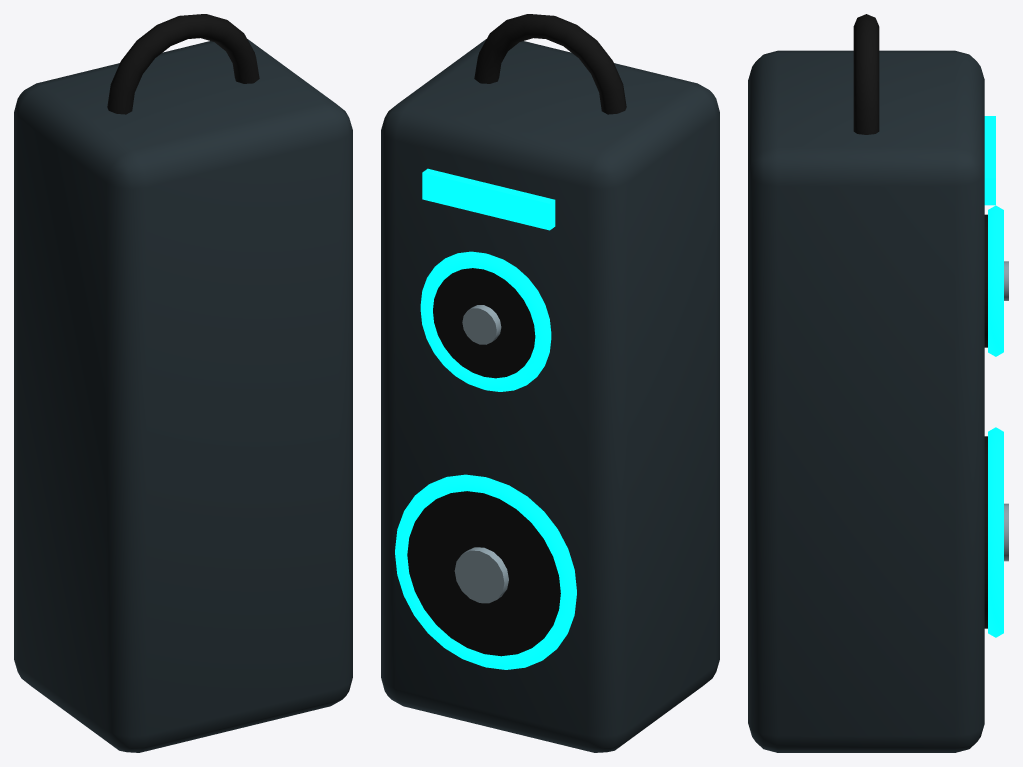
The model's file is speaker.fbx.
3 renders of one model, left to right at view 1: azimuth 30°, elevation 25°; view 2: azimuth 150°, elevation 25°; view 3: azimuth 270°, elevation 25°, orthographic.
Visible parts, largest first — view 1: Party Speaker; view 2: Party Speaker; view 3: Party Speaker.
Boxes of the visible parts, box(x1,y1,x2,y2) form: Party Speaker: box(14, 14, 352, 752); Party Speaker: box(381, 14, 719, 752); Party Speaker: box(748, 14, 1008, 752).
Bounding box in the file's own units: 0.76 × 2.04 × 0.705.
